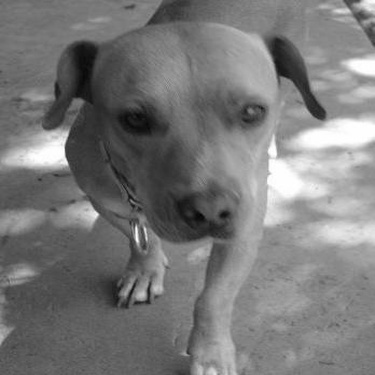dog: (36, 1, 330, 371)
